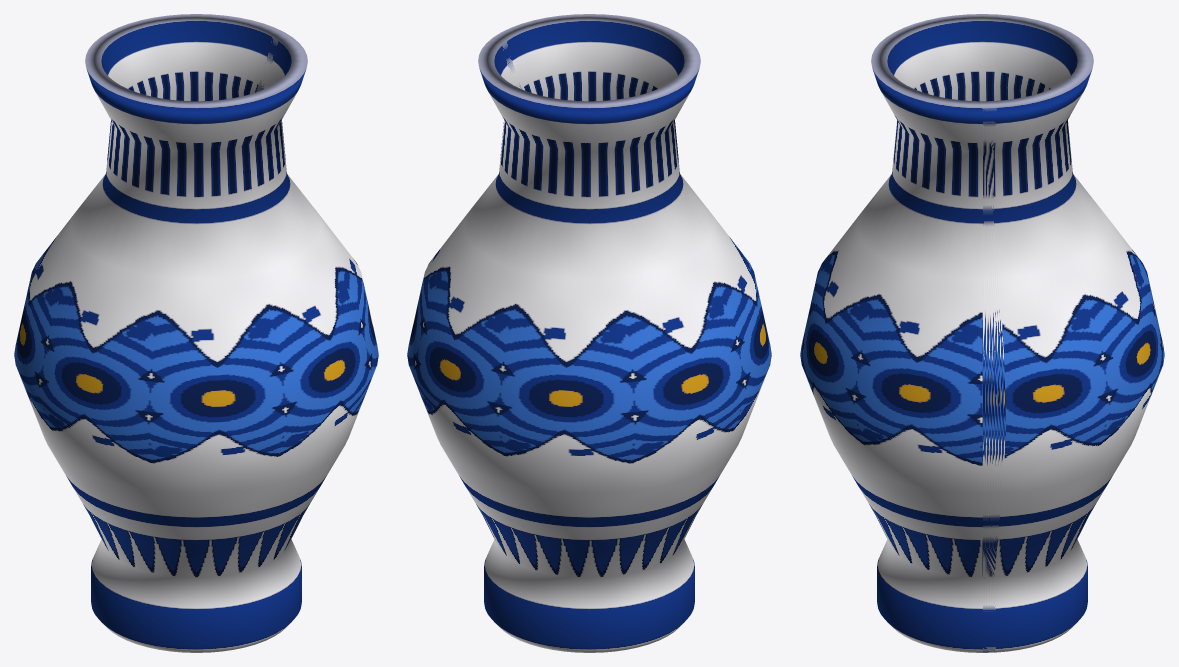
File: jarron_talavera.glb
3 renders of one model, left to right at view 1: azimuth 30°, elevation 25°; view 2: azimuth 150°, elevation 25°; view 3: azimuth 270°, elevation 25°, orthographic.
Visible parts, largest first — view 1: JarronTalaveraAzul; view 2: JarronTalaveraAzul; view 3: JarronTalaveraAzul.
Boxes of the visible parts, x1,y1,x2,y2 form: JarronTalaveraAzul: (14,14,378,652); JarronTalaveraAzul: (407,14,771,652); JarronTalaveraAzul: (800,14,1164,652).
Bounding box in the file's own units: 0.18 × 0.3 × 0.18.
1 material, 1 textured.
